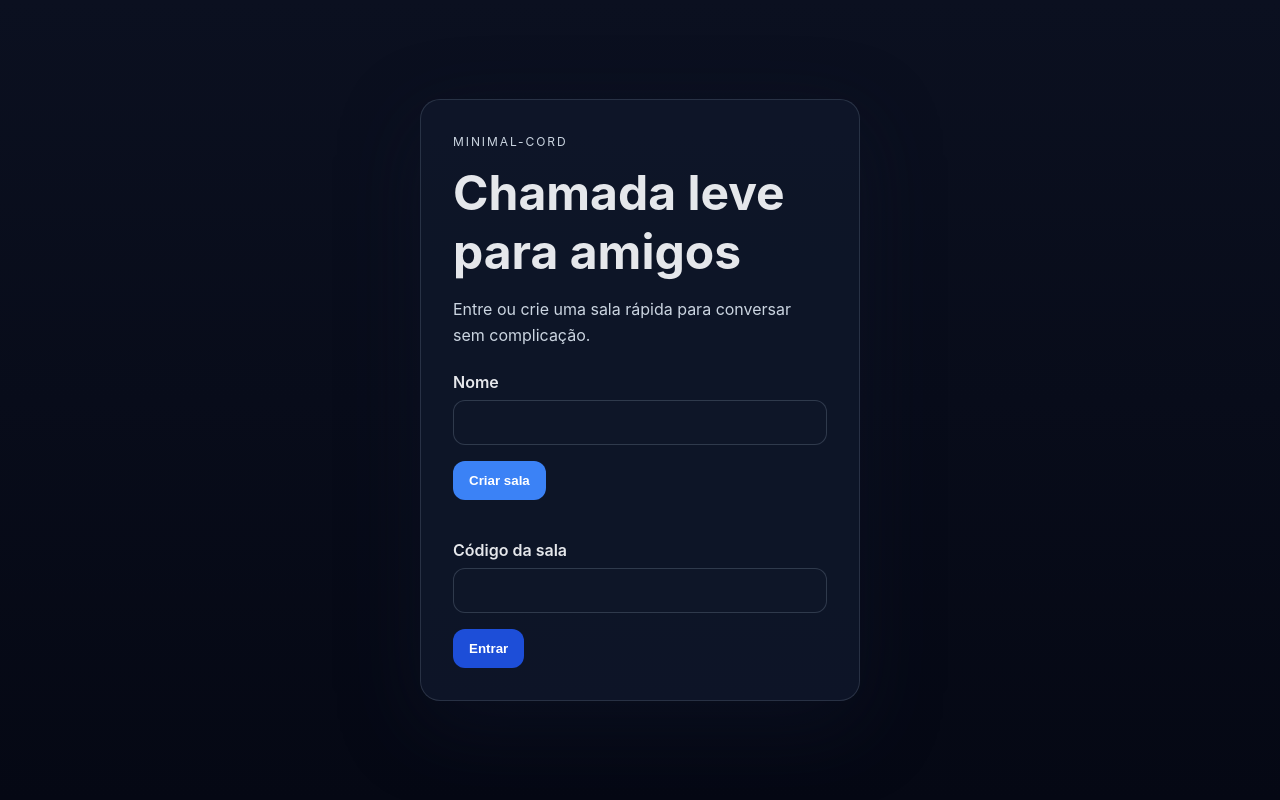
Test: HomePage › does not create a room without a name
Click the button "Criar sala" at (499,481), box [453,461,546,500]
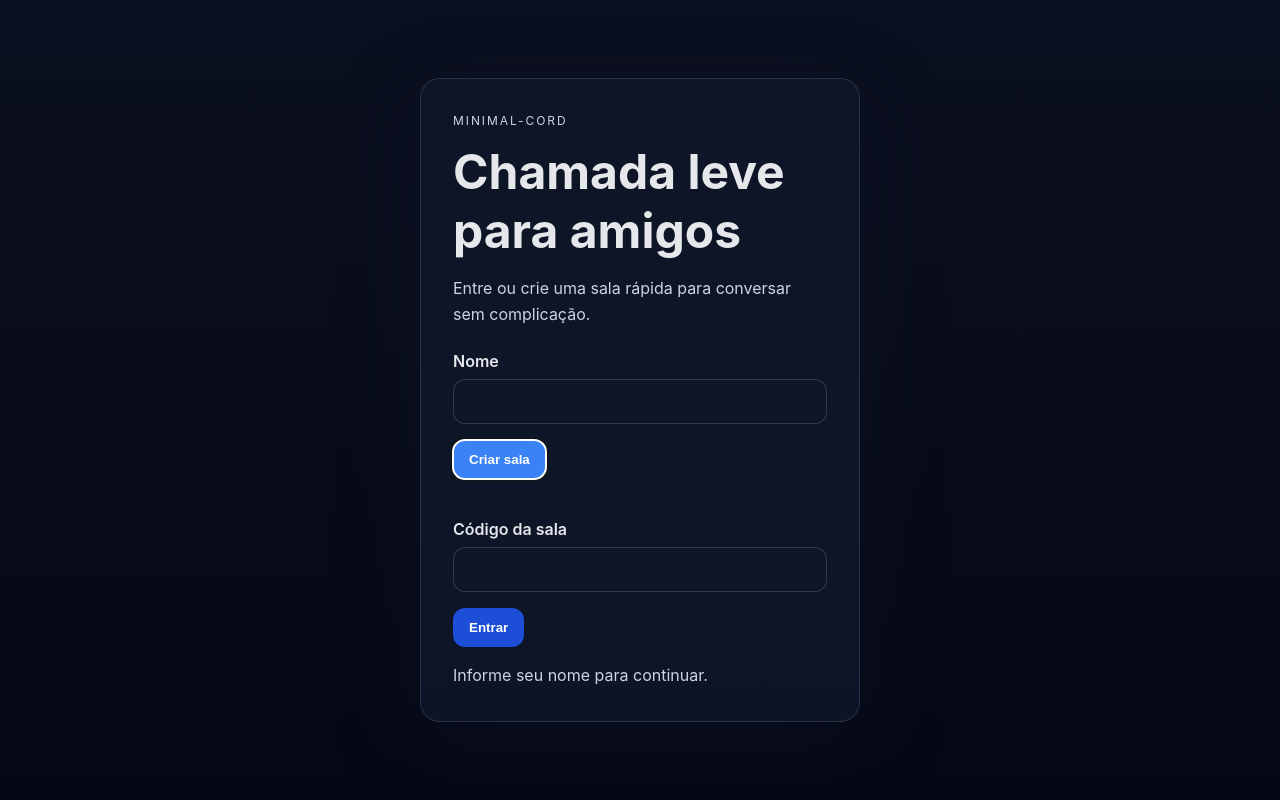
Now the text "Informe seu nome para continuar." is shown, box [453,665,708,685]
